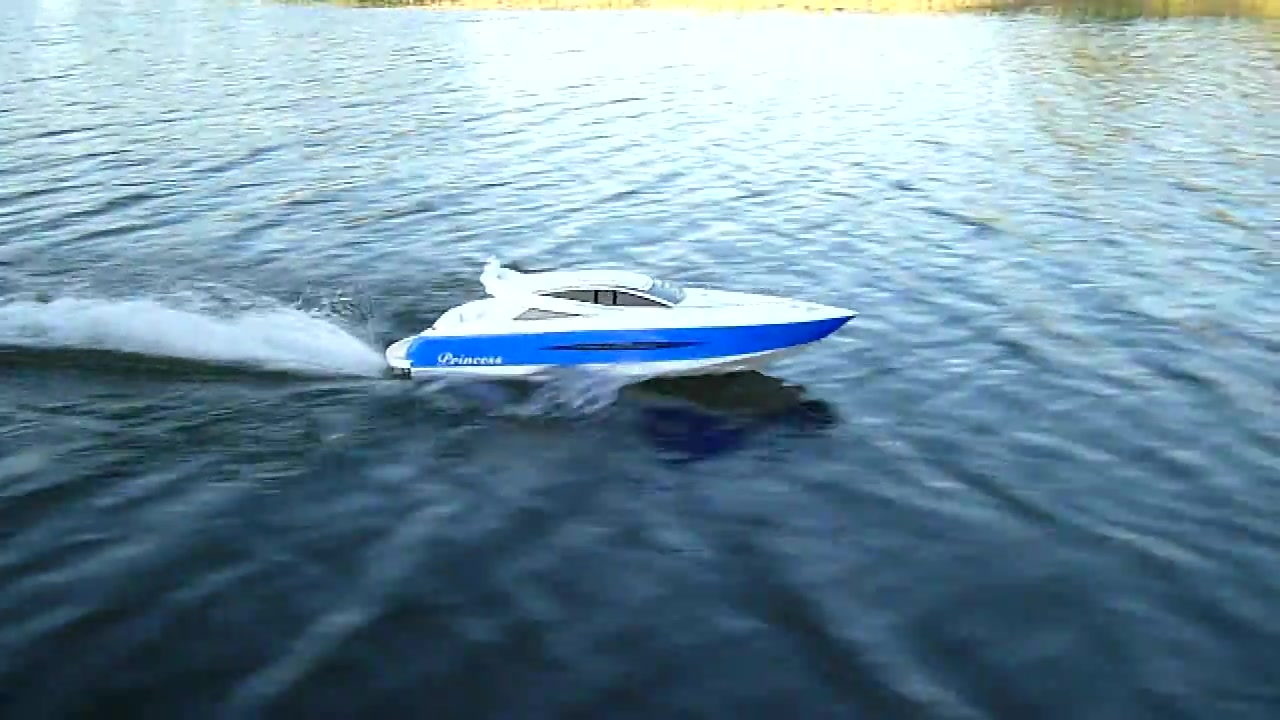boat: (377, 267, 866, 391)
